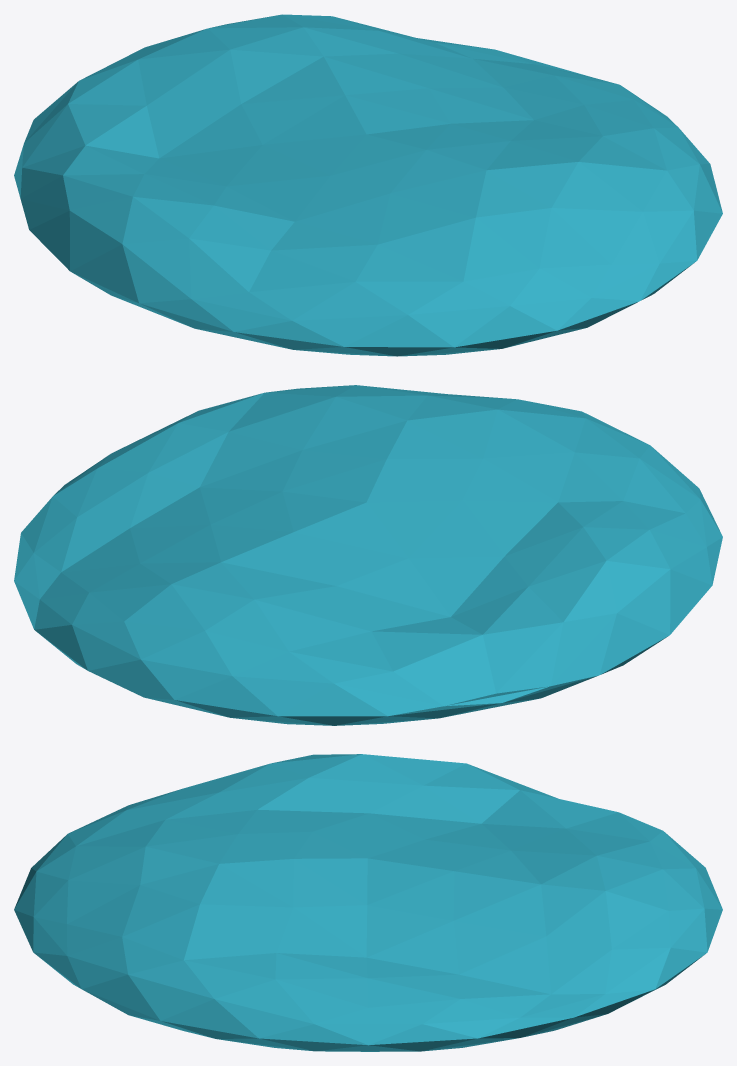
Rendered from Static_Water.fbx.
3 views of the same model, one above another, from view 1: azimuth 30°, elevation 25°; view 2: azimuth 150°, elevation 25°; view 3: azimuth 270°, elevation 25° (orthographic). The views are drawn at different scales.
Visible parts, largest first — view 1: Icosphere; view 2: Icosphere; view 3: Icosphere.
Part boxes in pixels (left/top/right/bottom): Icosphere: left=14, top=14, right=722, bottom=356; Icosphere: left=14, top=385, right=722, bottom=725; Icosphere: left=14, top=754, right=722, bottom=1051.
Bounding box in the file's own units: 1130 × 225 × 1251.
